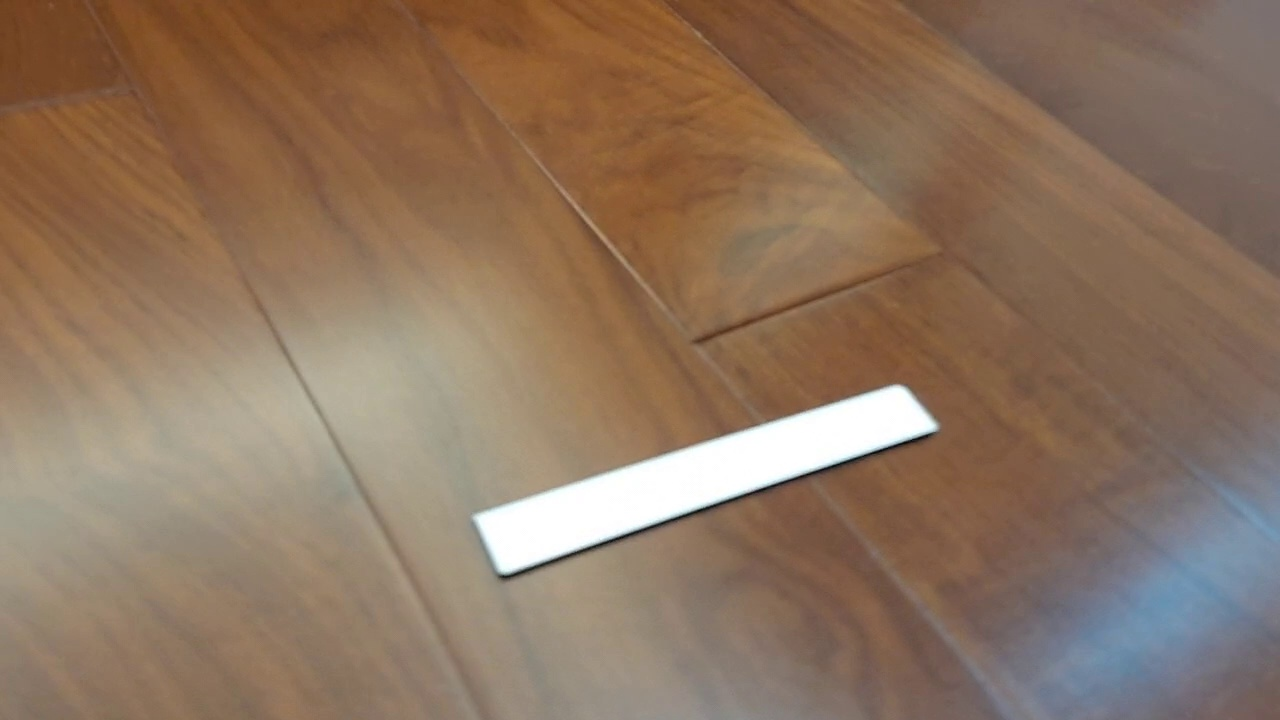ruler: (470, 382, 942, 581)
